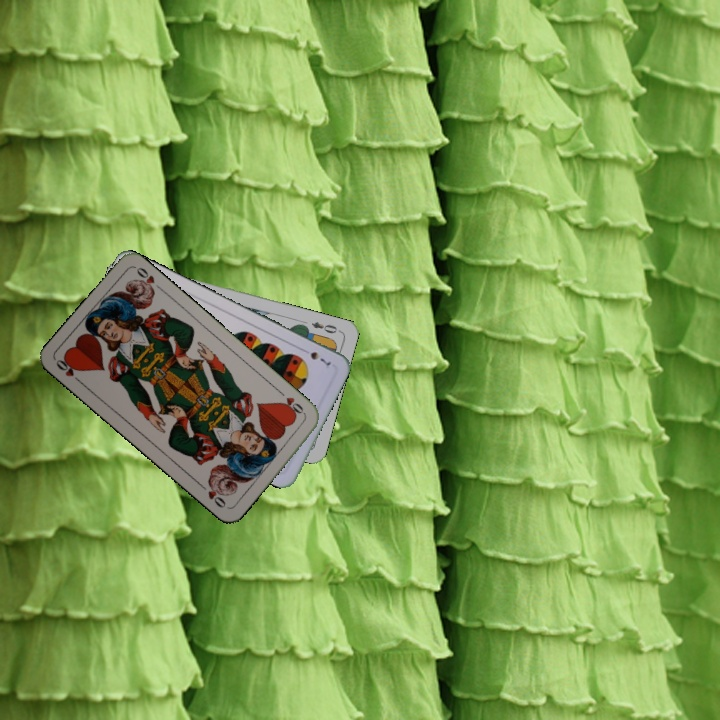EO: (307, 317, 343, 336)
HO: (52, 354, 86, 387), (275, 387, 308, 419)
S7: (297, 344, 333, 368)
